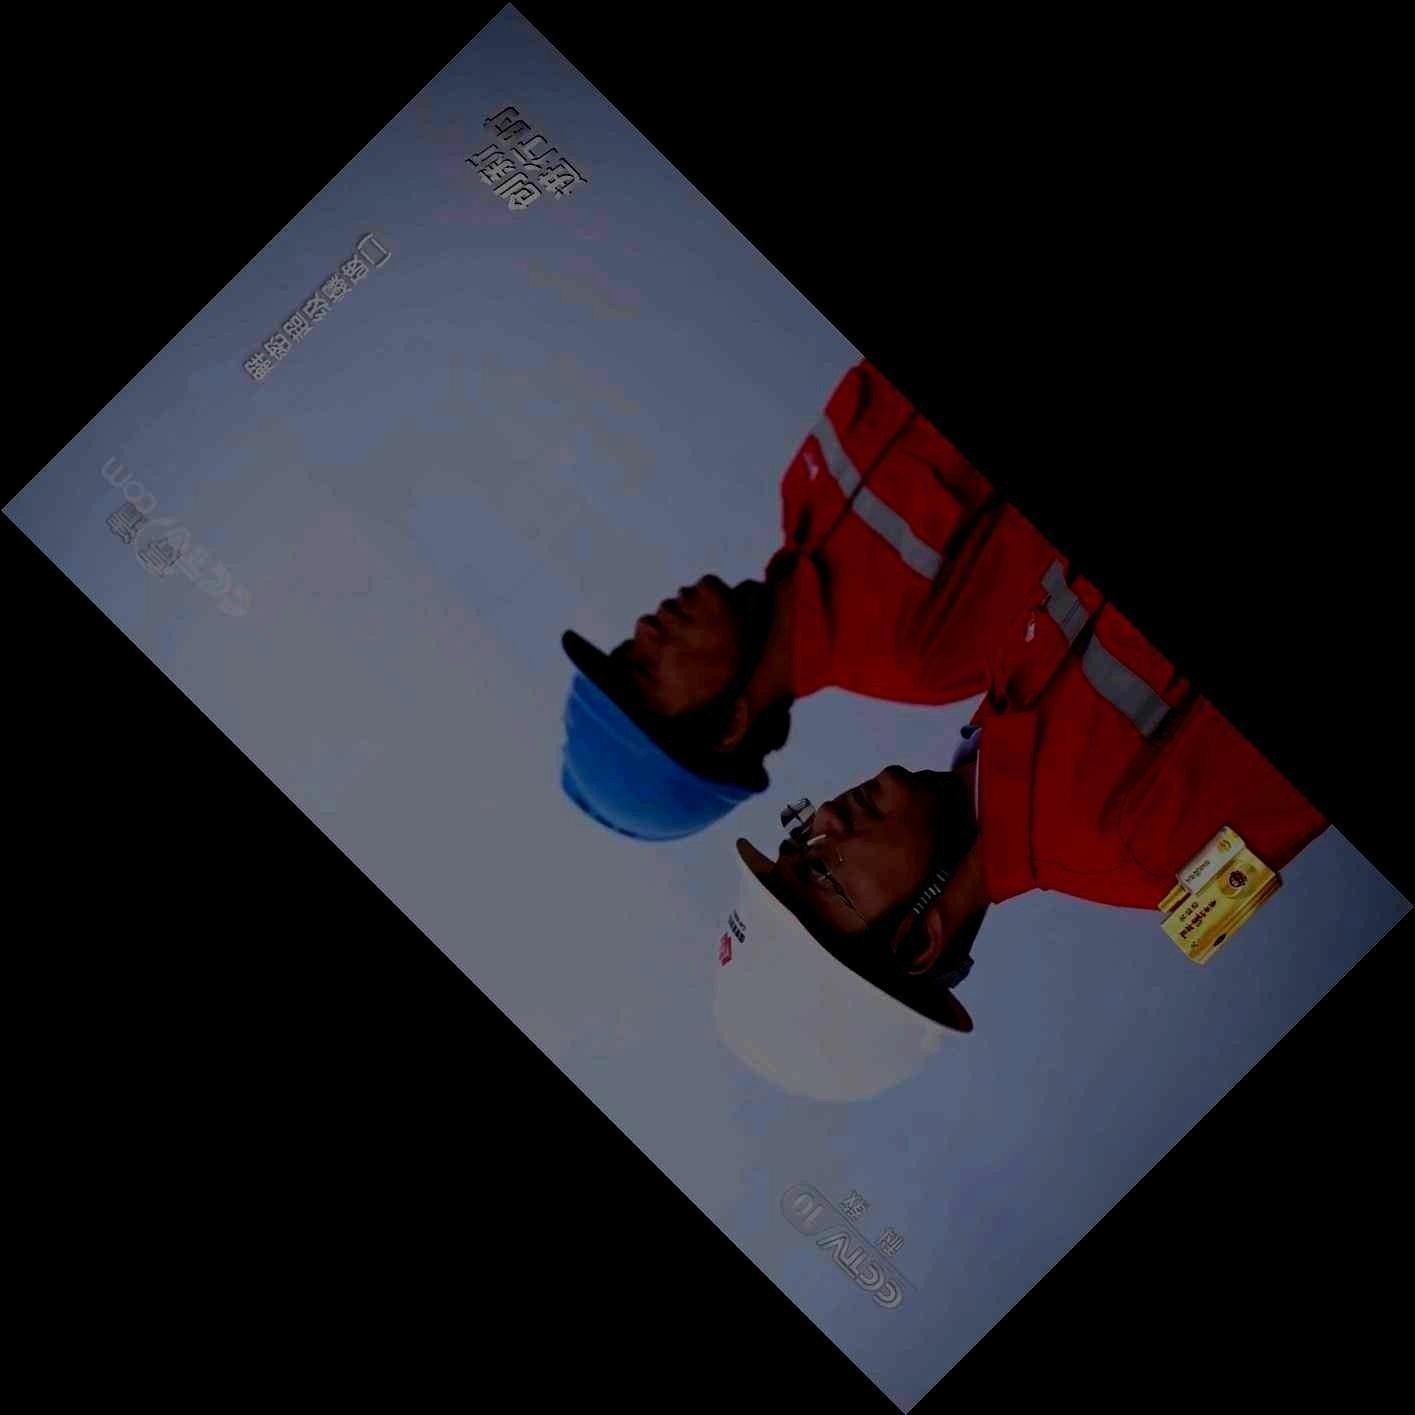helmet: (711, 765, 993, 1108), (558, 571, 793, 847)
